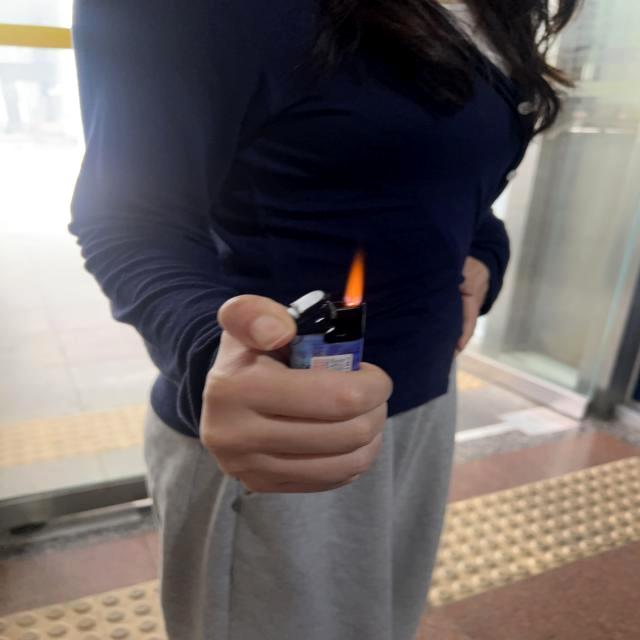fire: (344, 256, 368, 306)
